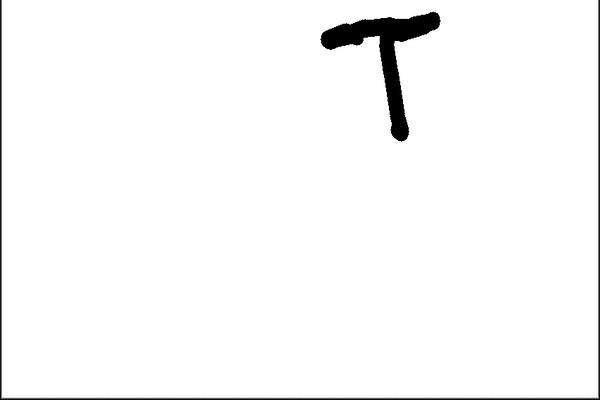T: (316, 8, 466, 140)
